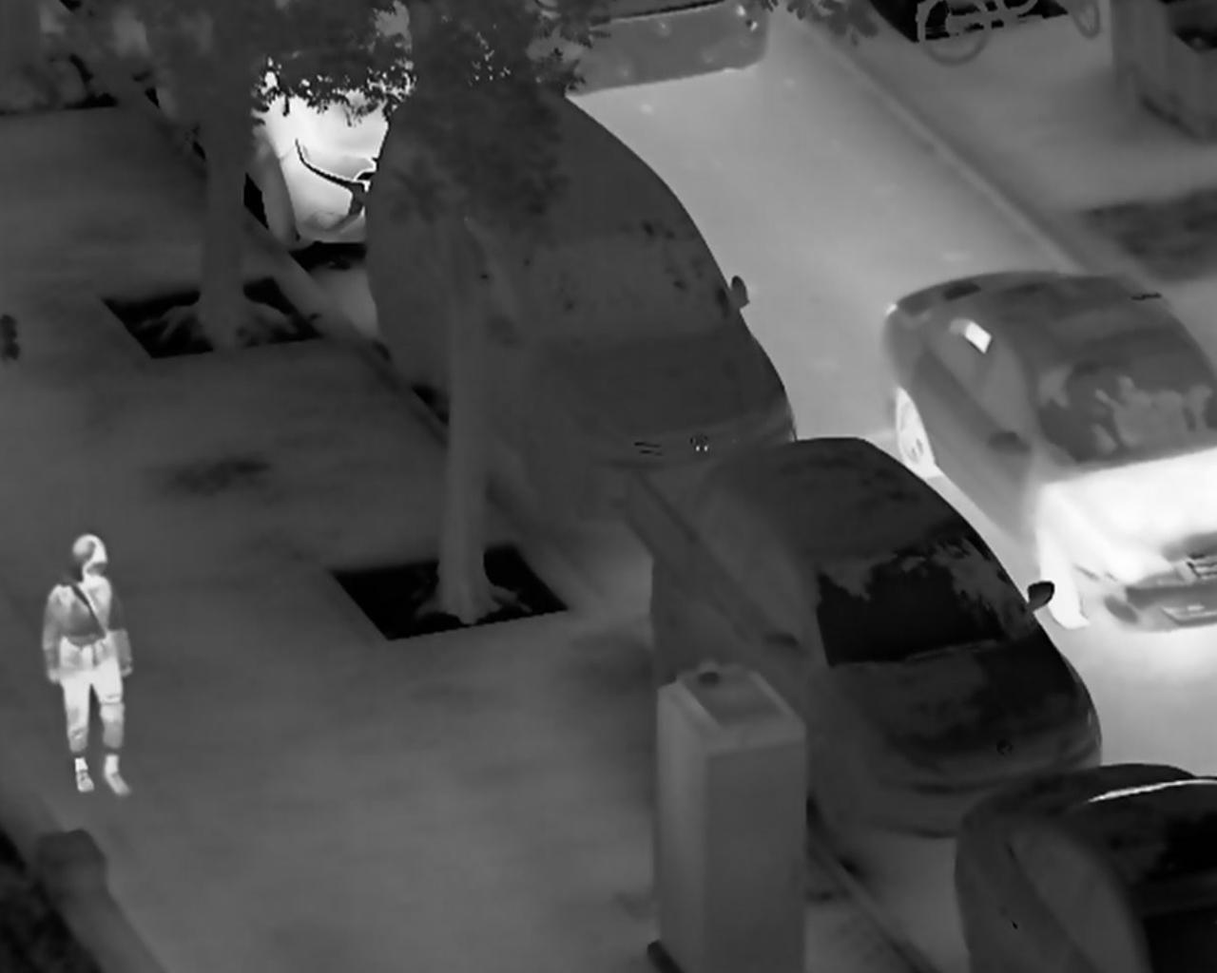person: (39, 531, 138, 802)
